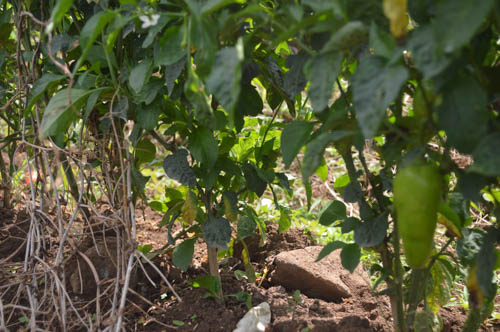ChiliPepper: (396, 166, 442, 271)
